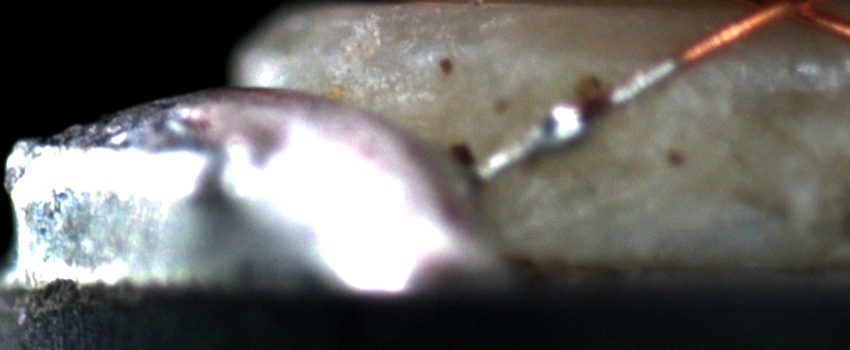CL: (737, 1, 818, 32)
DL: (493, 43, 850, 80)
TB: (530, 97, 583, 152)
TS: (477, 60, 677, 183)
TTCW: (461, 22, 729, 187)
